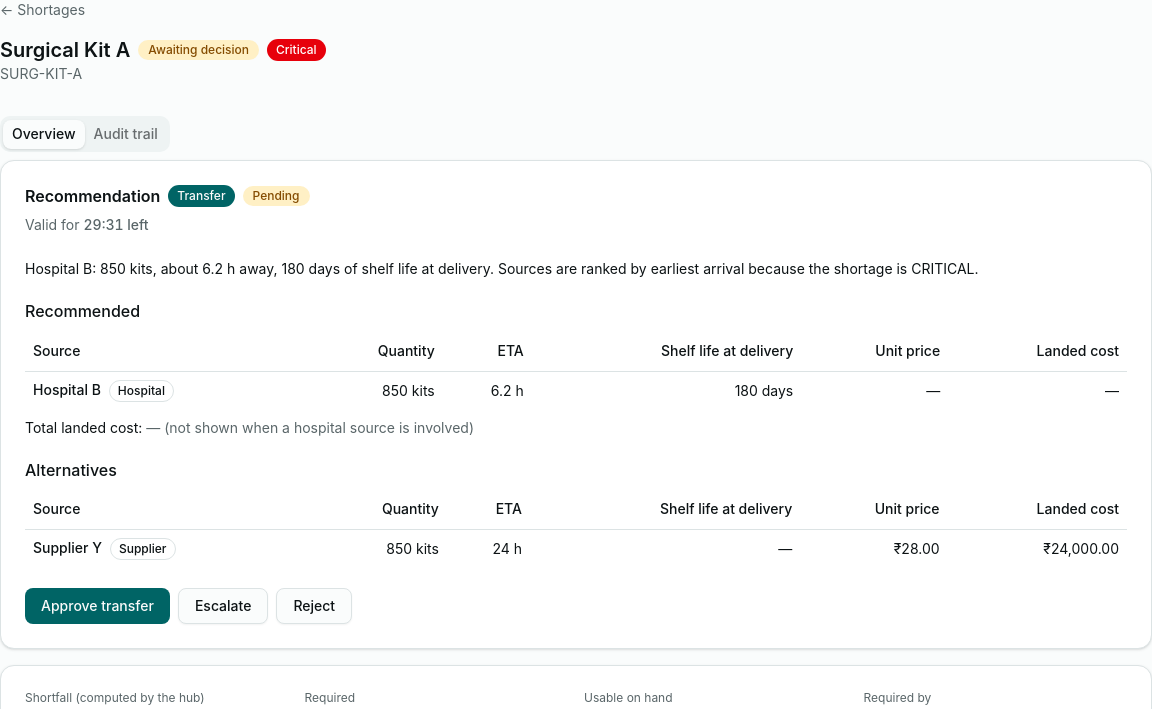
Test: Decision panel › words the TRANSFER button and the post-approval message exactly as business-rules §13
Expected: the text with test id "recommendation-type" reads "Transfer", [177, 188, 226, 203]
Click the button "Approve transfer": (97, 606) [25, 588, 170, 624]
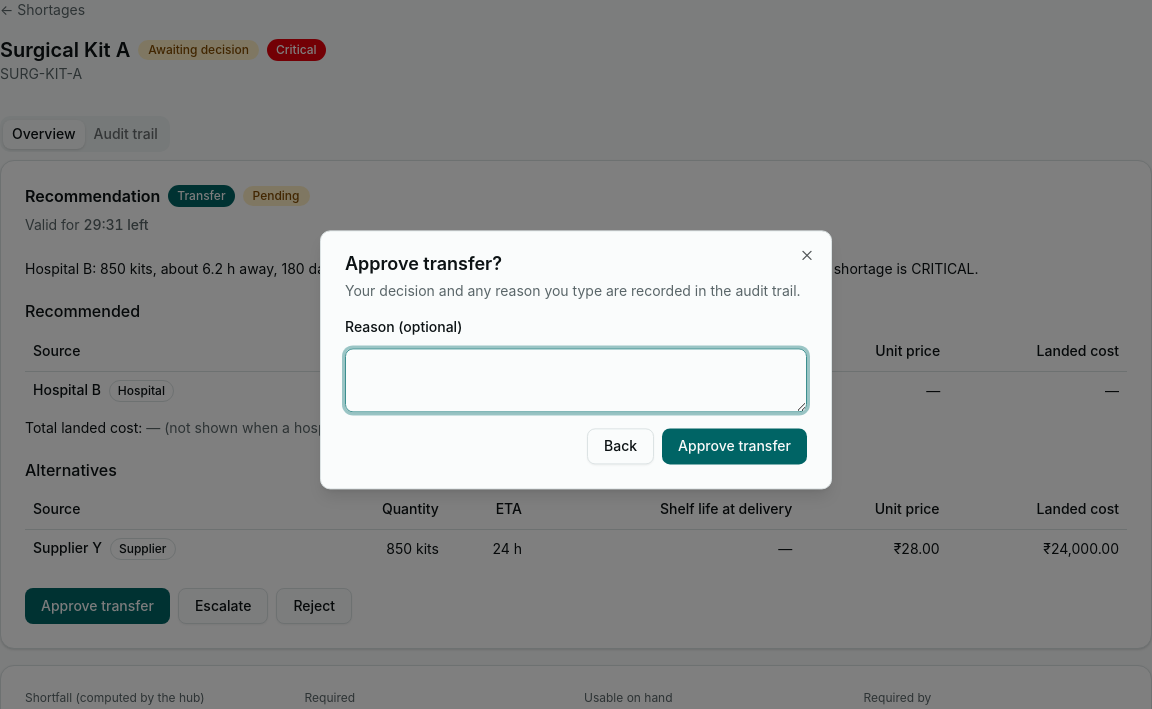
Click the button "Approve transfer": (735, 447) [662, 429, 807, 465]
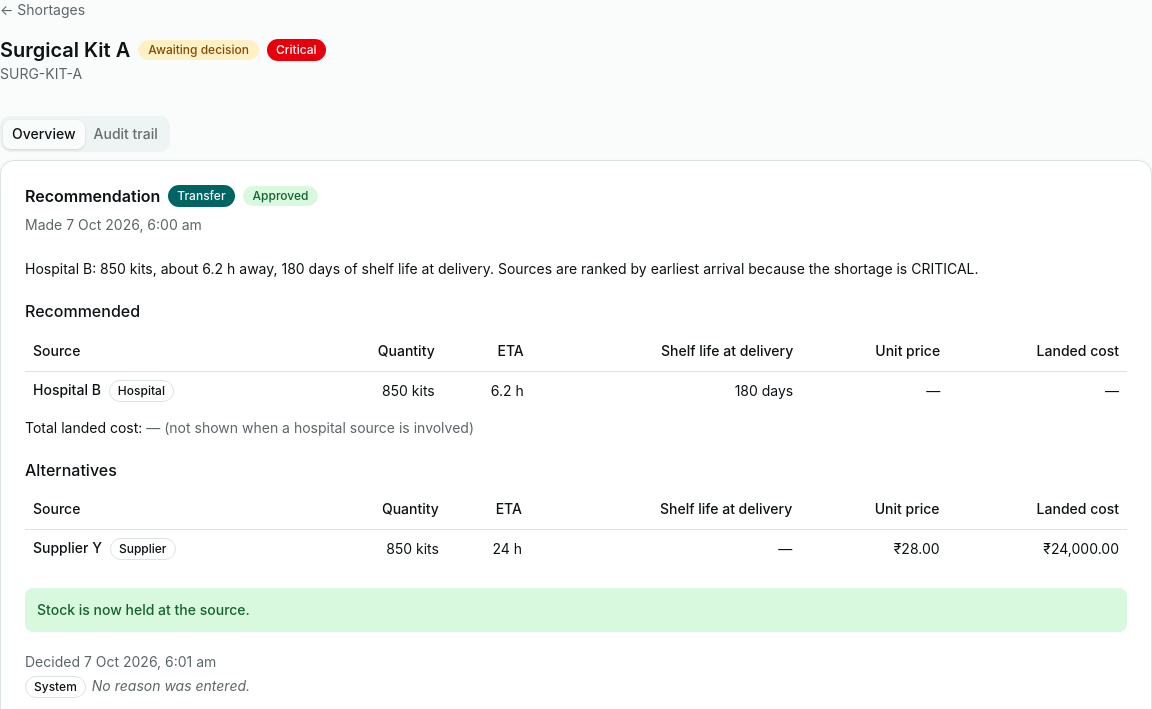
Now the message with test id "approved-message" reads "Stock is now held at the source.", box [37, 601, 250, 618]
Now the dialog is gone
Now the button "Approve transfer" is gone
